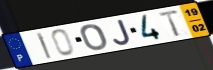0: (49, 28, 77, 57)
4: (140, 13, 163, 42)
I: (35, 32, 53, 60)
J: (112, 18, 133, 46)
O: (79, 23, 109, 52)
T: (158, 8, 183, 38)
